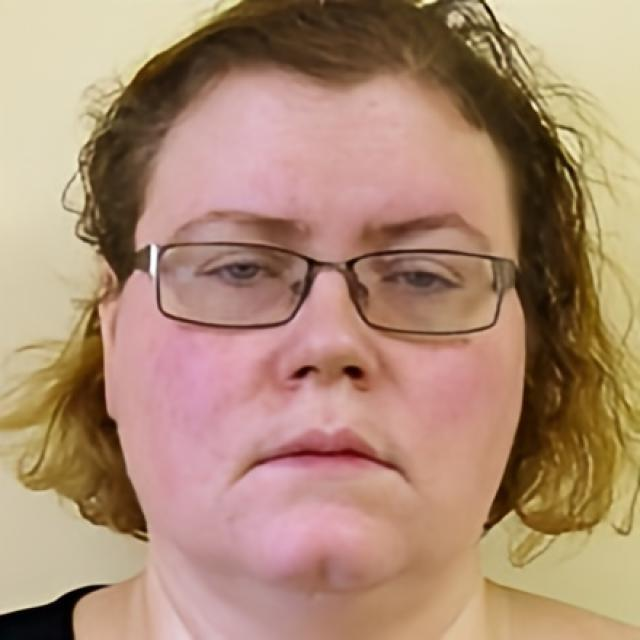sad: (125, 58, 531, 595)
